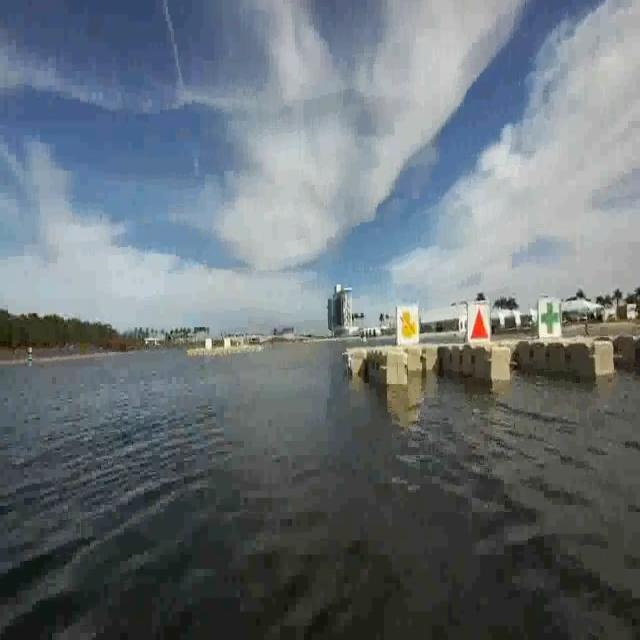blue-cross: (540, 299, 561, 338)
red-dot: (469, 302, 491, 348)
yellow-duck: (401, 305, 419, 347)
